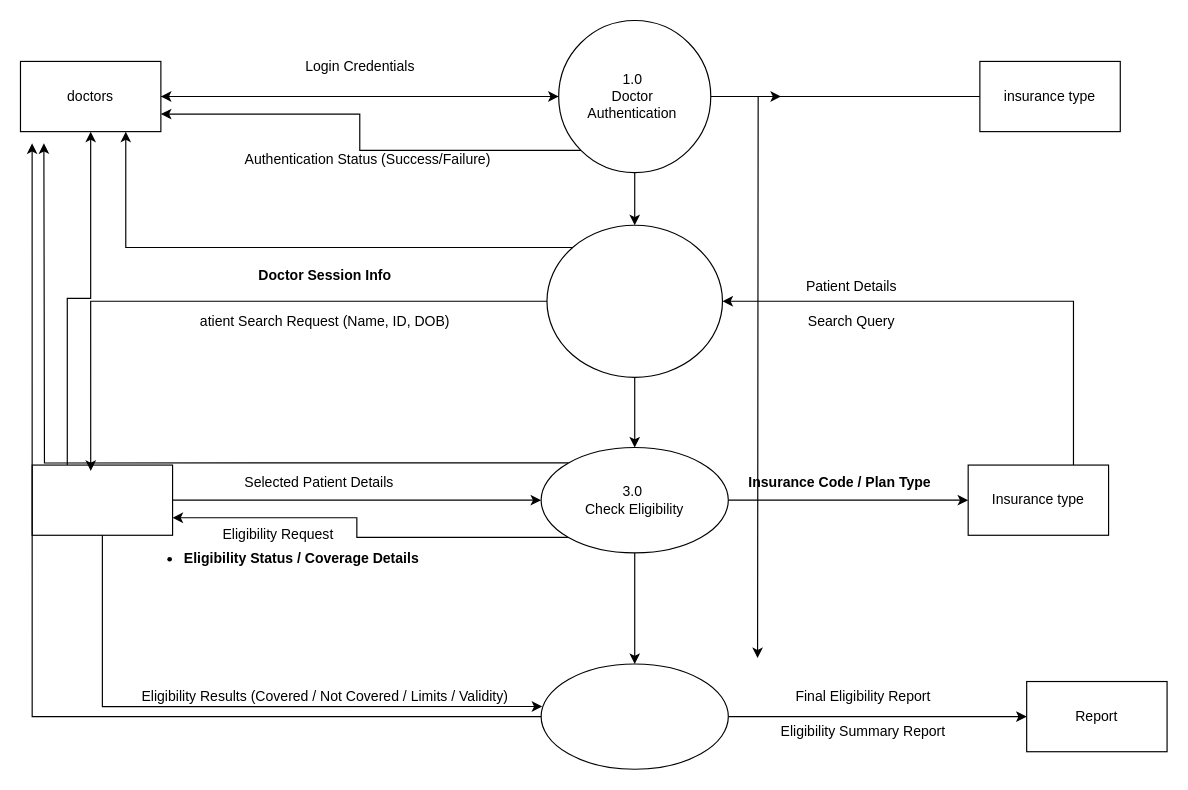
Some shapes in this 1188 by 790 pixel diagram are drawn without their labels. Here are the shapes that lost their labels. From the top down, the centre of each, then its label:
At point (634, 300): "2.0 PT Serch".
At point (102, 499): "PT Database".
At point (634, 716): "Display Result".
